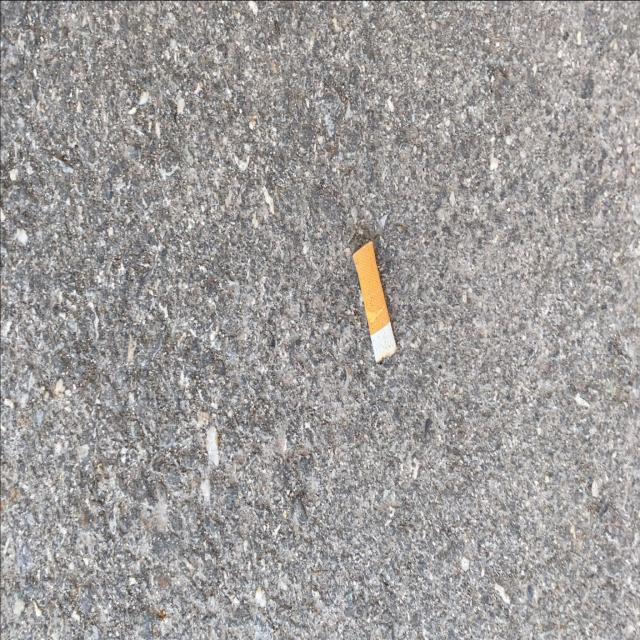other waste: (352, 240, 397, 364)
